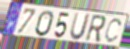5: (53, 12, 70, 39)
7: (17, 8, 38, 36)
C: (103, 18, 124, 45)
O: (34, 10, 55, 38)
R: (84, 14, 107, 44)
U: (68, 12, 92, 43)
